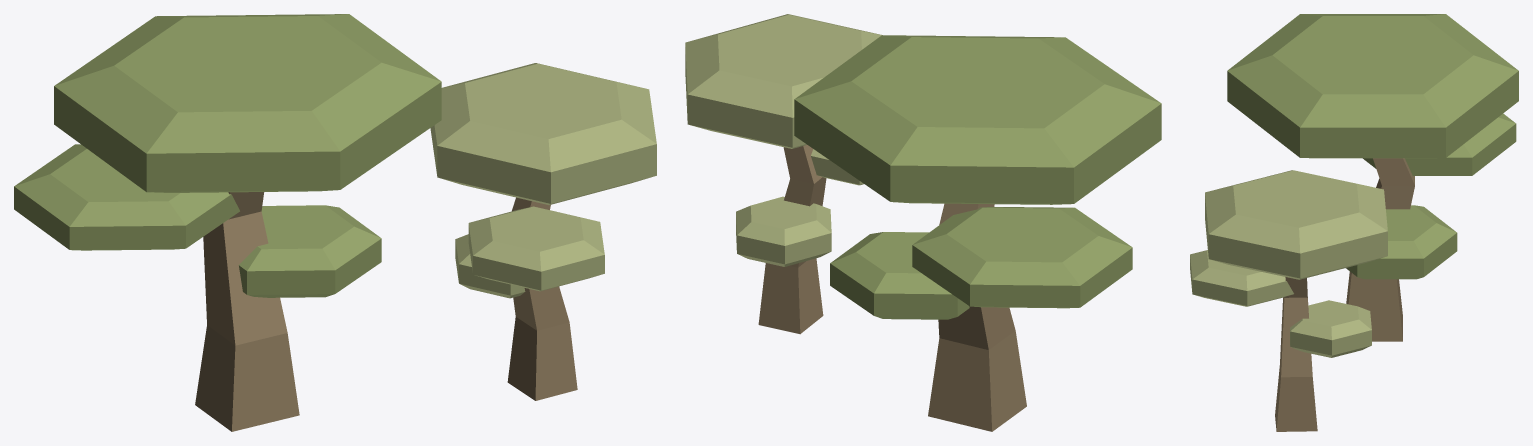
Rendered from veg_dry_canopy.glb.
3 renders of one model, left to right at view 1: azimuth 30°, elevation 25°; view 2: azimuth 150°, elevation 25°; view 3: azimuth 270°, elevation 25°, orthographic. The views are drawn at different scales.
Visible parts, largest first — view 1: clump_0, clump_1; view 2: clump_0, clump_1; view 3: clump_0, clump_1.
Boxes of the visible parts, box(x1,y1,x2,y2) form: clump_0: box(14, 14, 441, 431); clump_1: box(430, 63, 656, 400); clump_0: box(794, 35, 1161, 431); clump_1: box(685, 14, 882, 334); clump_0: box(1227, 14, 1518, 341); clump_1: box(1190, 170, 1387, 431).
Bounding box in the file's own units: 1.67 × 1.05 × 1.14.
